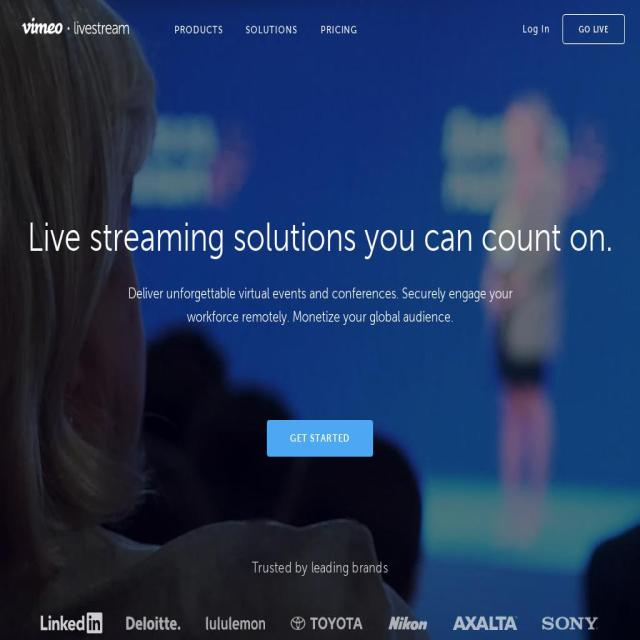button: (151, 3, 235, 55), (234, 3, 310, 55), (267, 420, 373, 457), (309, 3, 370, 55), (22, 16, 129, 38), (563, 14, 625, 44)
heading: (0, 209, 640, 264), (102, 282, 538, 328)
image: (22, 17, 129, 34), (40, 612, 102, 634), (289, 616, 365, 630), (451, 616, 518, 630), (204, 616, 266, 630), (541, 616, 600, 630), (126, 616, 182, 630), (388, 616, 429, 630)
link: (522, 23, 550, 35)
text: (0, 457, 640, 578), (513, 579, 628, 640)
